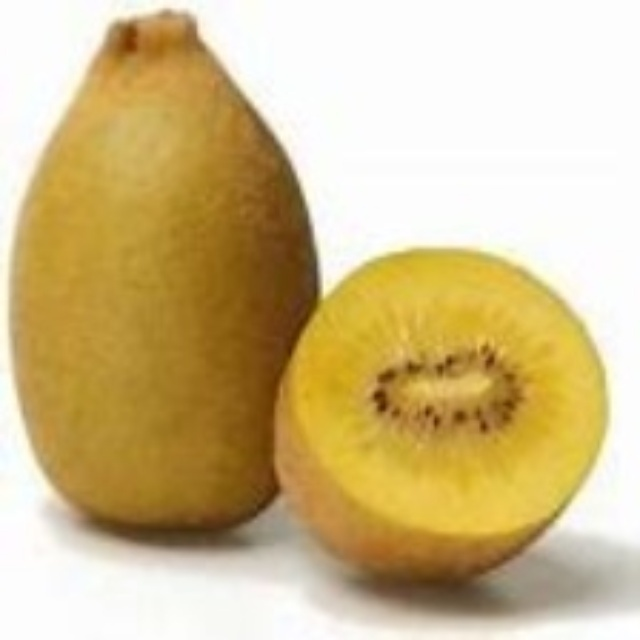kiwi: (20, 12, 323, 540), (276, 245, 605, 583)
